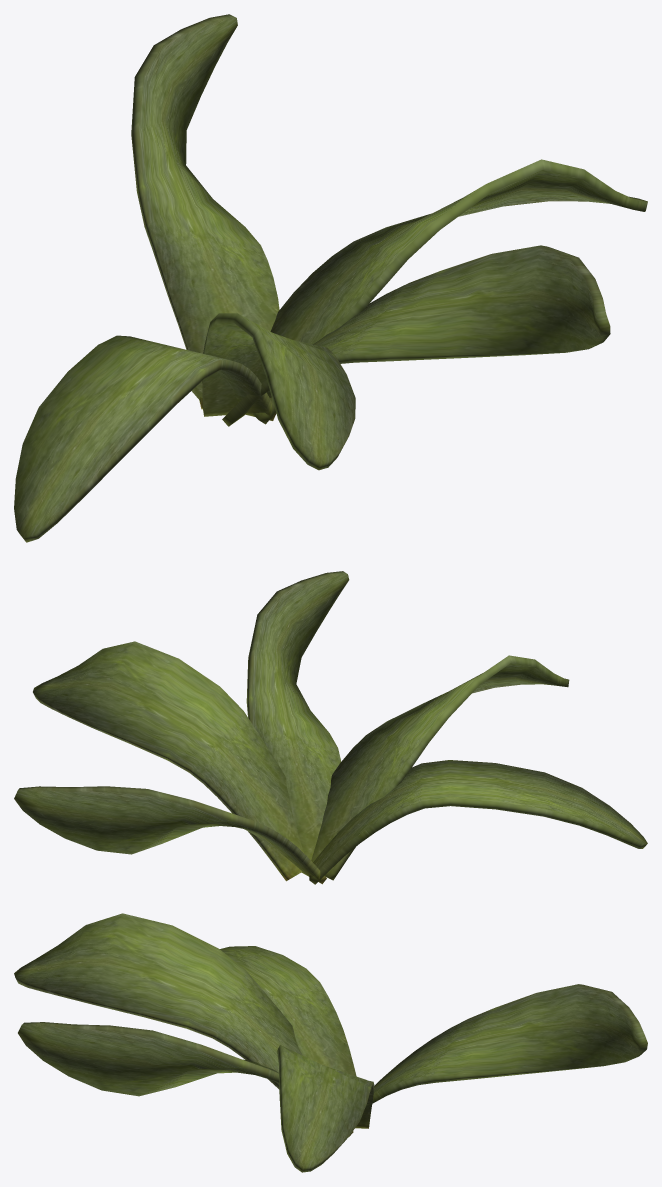
The model's file is calyx6_sb1.dae.
3 renders of one model, top to bottom at view 1: azimuth 30°, elevation 25°; view 2: azimuth 150°, elevation 25°; view 3: azimuth 270°, elevation 25°, orthographic. The views are drawn at different scales.
Parts seen in each view (by area): view 1: calyx5_002, calyx5_001, calyx3, calyx4_001, calyx4; view 2: calyx4_001, calyx5_001, calyx3, calyx5_002, calyx4; view 3: calyx4, calyx5_002, calyx5_001, calyx4_001, calyx3.
Boxes of the visible parts, left/top/right/bottom form: calyx5_002: left=131, top=14, right=279, bottom=409; calyx5_001: left=222, top=245, right=610, bottom=426; calyx3: left=14, top=335, right=276, bottom=542; calyx4_001: left=251, top=159, right=647, bottom=424; calyx4: left=202, top=313, right=355, bottom=470; calyx4_001: left=33, top=641, right=303, bottom=881; calyx5_001: left=246, top=571, right=349, bottom=860; calyx3: left=309, top=760, right=647, bottom=884; calyx5_002: left=14, top=786, right=326, bottom=884; calyx4: left=311, top=655, right=569, bottom=880; calyx4: left=14, top=913, right=302, bottom=1089; calyx5_002: left=365, top=984, right=647, bottom=1108; calyx5_001: left=18, top=1022, right=353, bottom=1136; calyx4_001: left=276, top=1045, right=374, bottom=1172; calyx3: left=220, top=946, right=356, bottom=1076.
Size of the model in its own units: 0.0826 by 0.0818 by 0.0239.
6 materials, 6 textured.
